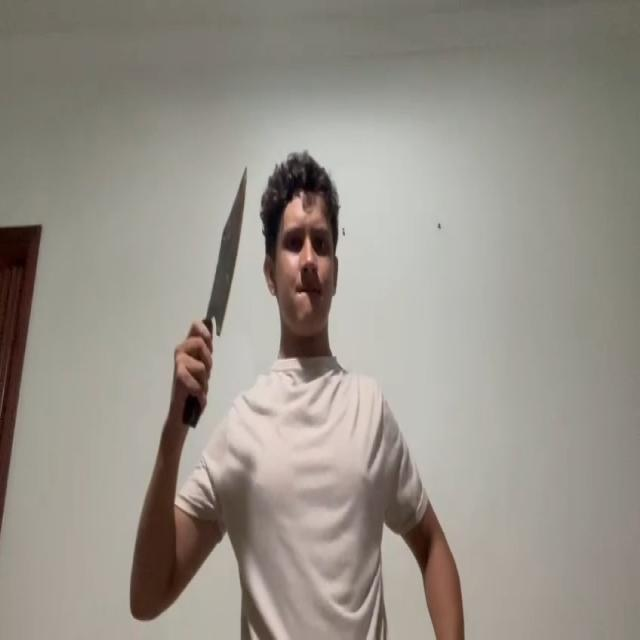knife: (203, 166, 249, 332)
